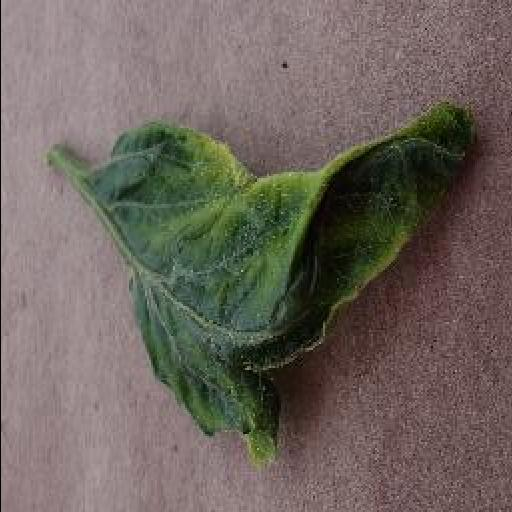disease_tomato: (85, 99, 483, 459)
